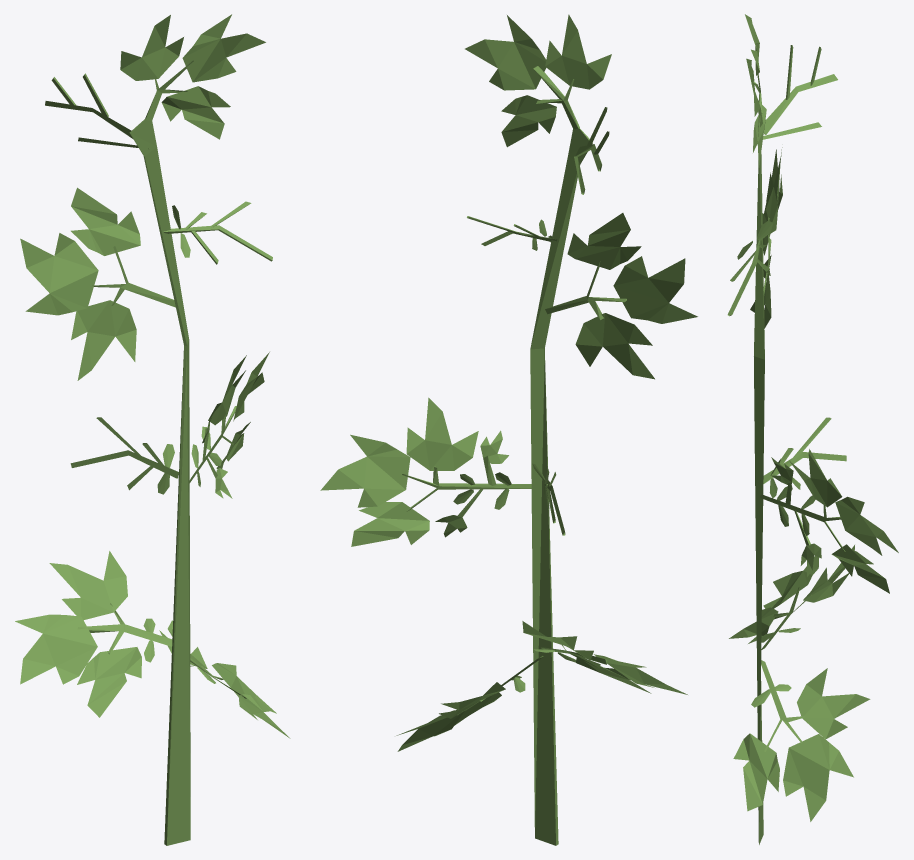
The model's file is Tomatos_7.fbx.
3 views of the same model, side by side, from view 1: azimuth 30°, elevation 25°; view 2: azimuth 150°, elevation 25°; view 3: azimuth 270°, elevation 25° (orthographic). The views are drawn at different scales.
Parts seen in each view (by area): view 1: Tomato_7; view 2: Tomato_7; view 3: Tomato_7.
Boxes of the visible parts, x1,y1,x2,y2 form: Tomato_7: (15, 14, 290, 845); Tomato_7: (320, 14, 697, 845); Tomato_7: (727, 14, 898, 844).
Bounding box in the file's own units: 70.02 × 180 × 34.25.
